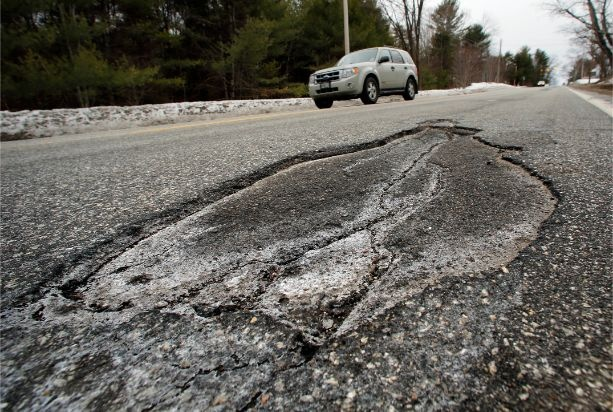pothole: (56, 113, 566, 347)
